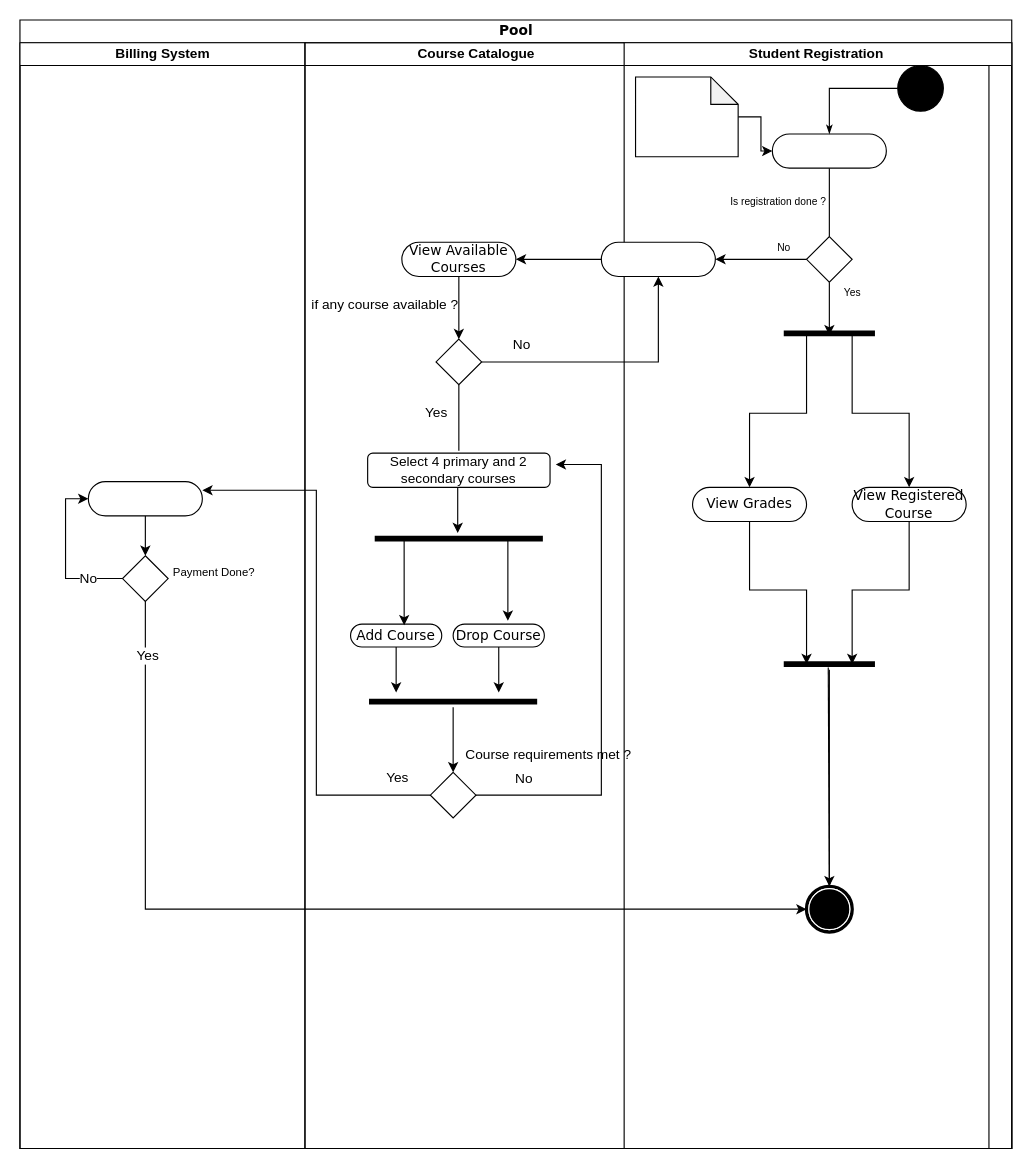
Some shapes in this 1032 by 1169 pixel diagram are drawn without their labels. The box of each missing label's shape, as (x1, y1, x2, y2) in pixels:
*precondition* User Successfully logged in: (634, 76, 738, 157)
Course Registration: (600, 241, 715, 276)
Fee Payment: (87, 481, 202, 516)
Login: (771, 133, 886, 168)
